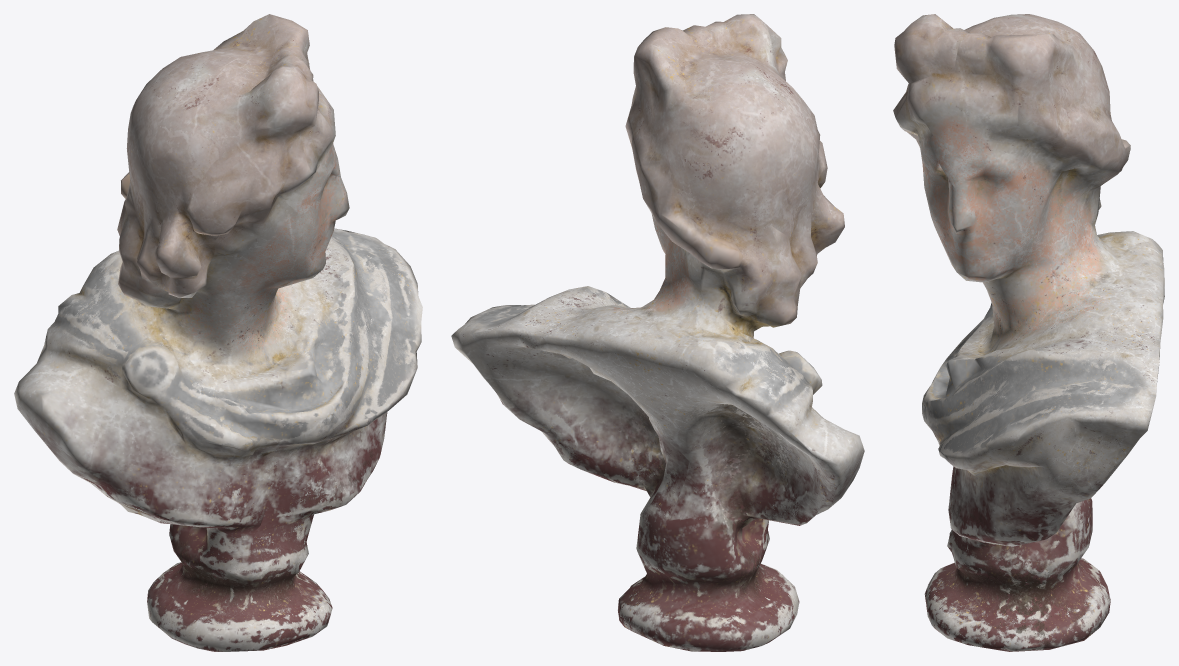
File: bust.glb
The picture shows the model from 3 angles, left to right: view 1: azimuth 30°, elevation 25°; view 2: azimuth 150°, elevation 25°; view 3: azimuth 270°, elevation 25°; orthographic projection. The views are drawn at different scales.
Parts seen in each view (by area): view 1: ROMANBUST_low; view 2: ROMANBUST_low; view 3: ROMANBUST_low.
Part boxes in pixels (bbox=[...]): ROMANBUST_low: bbox=[14, 14, 422, 651]; ROMANBUST_low: bbox=[451, 14, 864, 651]; ROMANBUST_low: bbox=[893, 14, 1164, 651].
Bounding box in the file's own units: 1.4 × 2.05 × 0.8338.
Materials: 1 (1 with a texture image).
